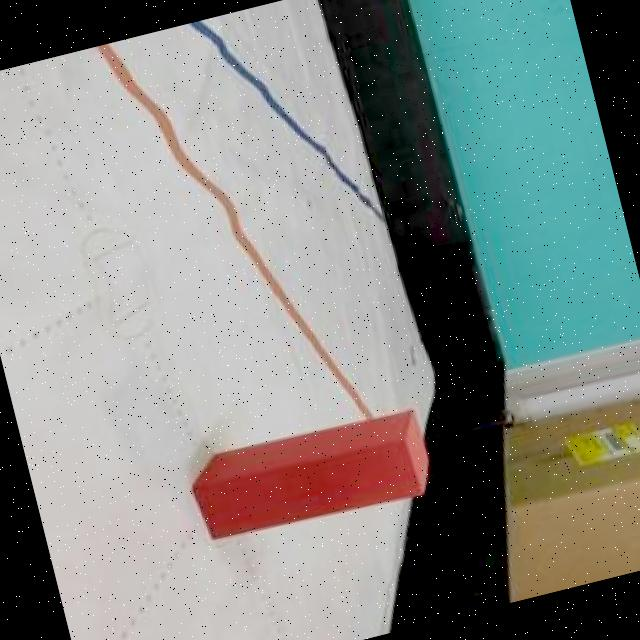redbox: (183, 402, 440, 548)
